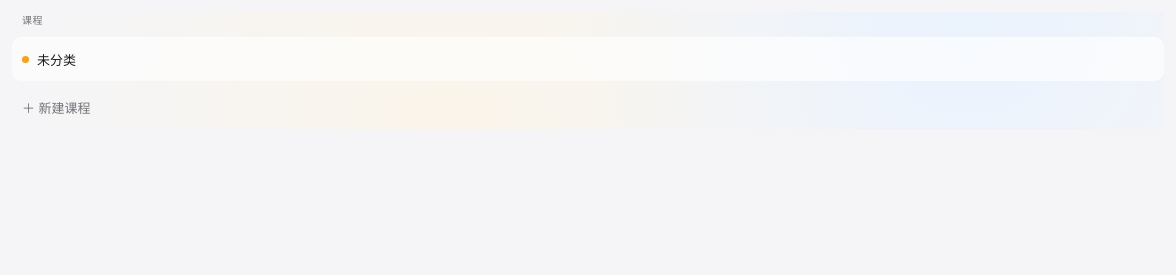
Test: keeps course fields after a failed creation and retries explicitly without callbacks
The image size is (1176, 275).
Later steps or results of the test are not shown.
Step 1. Click the button "＋ 新建课程" → (56, 108), box [12,85,1164,129]
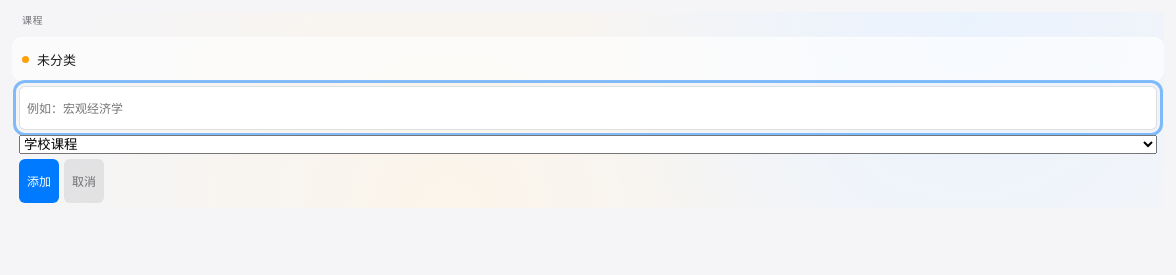
Step 2. Type "统计学" into the field named "课程名称" → (588, 108), box [19,86,1157,130]
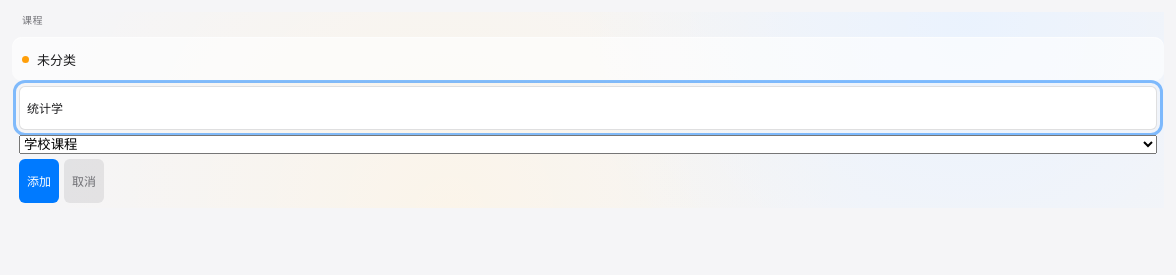
Step 3. Click the button "添加" → (39, 181), box [19,159,59,203]
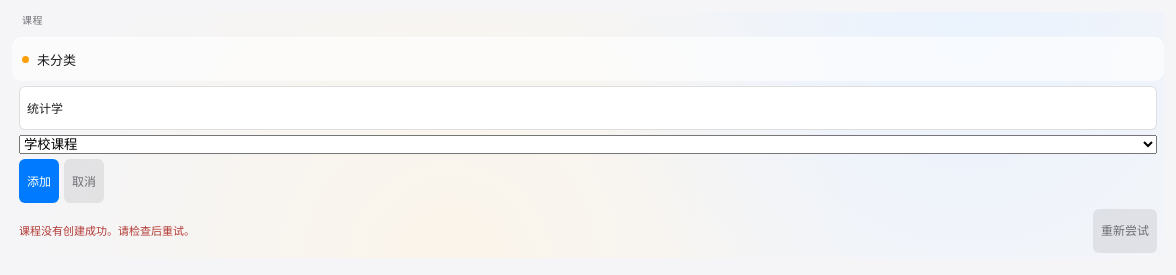
expect the message shows "课程没有创建成功": met, box [19,223,195,238]
